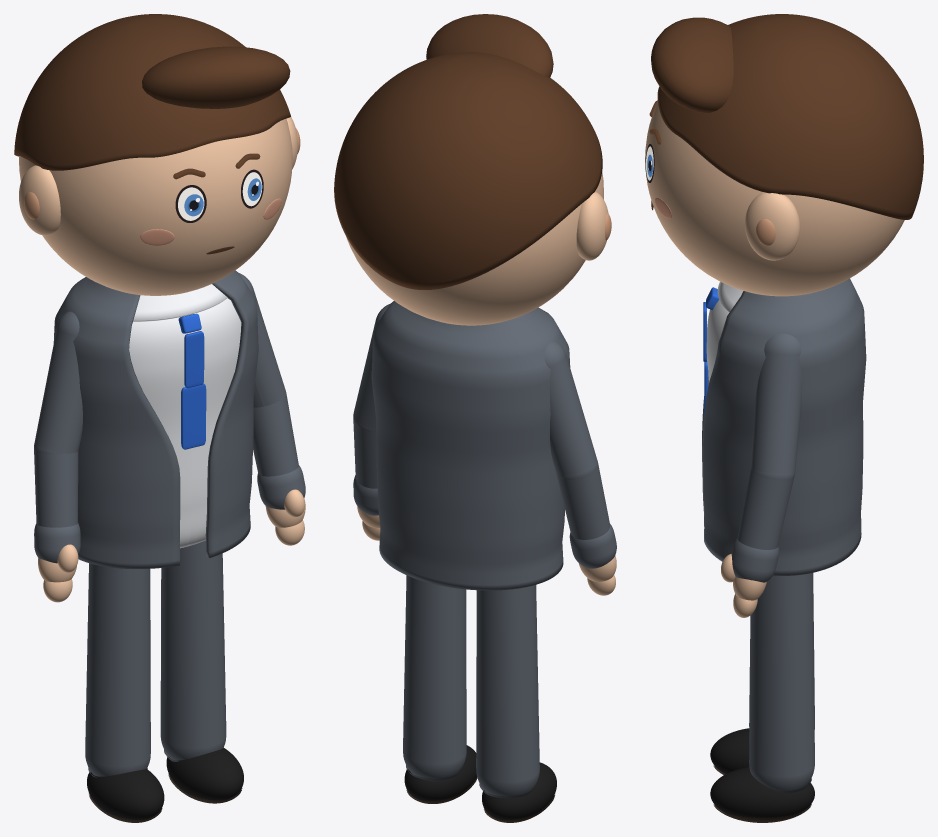
File: figurant_b.glb
3 renders of one model, left to right at view 1: azimuth 30°, elevation 25°; view 2: azimuth 150°, elevation 25°; view 3: azimuth 270°, elevation 25°, orthographic. The views are drawn at different scales.
Parts seen in each view (by area): view 1: figurant_b_jas, figurant_b_hoofd, figurant_b_haar, figurant_b_been_R, figurant_b_been_L, figurant_b_romp, figurant_b_haar_kuif, figurant_b_bovenarm_R, figurant_b_onderarm_R, figurant_b_schoen_R, figurant_b_schoen_L, figurant_b_onderarm_L (+8 smaller); view 2: figurant_b_jas, figurant_b_haar, figurant_b_been_R, figurant_b_been_L, figurant_b_hoofd, figurant_b_haar_kuif, figurant_b_bovenarm_R, figurant_b_onderarm_R, figurant_b_schoen_R, figurant_b_schoen_L, figurant_b_oor_R, figurant_b_onderarm_L (+3 smaller); view 3: figurant_b_haar, figurant_b_jas, figurant_b_hoofd, figurant_b_been_L, figurant_b_haar_kuif, figurant_b_bovenarm_L, figurant_b_schoen_L, figurant_b_onderarm_L, figurant_b_oor_L, figurant_b_manchet_L, figurant_b_schoen_R, figurant_b_romp (+1 smaller).
Part boxes in pixels (bbox=[...]): figurant_b_jas: bbox=[53, 270, 258, 568]; figurant_b_hoofd: bbox=[19, 118, 292, 295]; figurant_b_haar: bbox=[14, 14, 290, 170]; figurant_b_been_R: bbox=[85, 563, 150, 776]; figurant_b_been_L: bbox=[160, 540, 226, 760]; figurant_b_romp: bbox=[129, 298, 241, 548]; figurant_b_haar_kuif: bbox=[142, 46, 290, 108]; figurant_b_bovenarm_R: bbox=[34, 311, 82, 453]; figurant_b_onderarm_R: bbox=[34, 448, 78, 527]; figurant_b_schoen_R: bbox=[87, 769, 164, 820]; figurant_b_schoen_L: bbox=[166, 748, 243, 800]; figurant_b_onderarm_L: bbox=[253, 394, 298, 476]; figurant_b_jas: bbox=[371, 301, 570, 590]; figurant_b_haar: bbox=[334, 52, 602, 289]; figurant_b_been_R: bbox=[476, 585, 539, 796]; figurant_b_been_L: bbox=[403, 575, 466, 778]; figurant_b_hoofd: bbox=[346, 172, 603, 325]; figurant_b_haar_kuif: bbox=[426, 14, 553, 77]; figurant_b_bovenarm_R: bbox=[544, 341, 597, 478]; figurant_b_onderarm_R: bbox=[556, 464, 610, 539]; figurant_b_schoen_R: bbox=[482, 762, 556, 820]; figurant_b_schoen_L: bbox=[404, 745, 476, 801]; figurant_b_oor_R: bbox=[576, 191, 608, 260]; figurant_b_onderarm_L: bbox=[353, 416, 377, 488]; figurant_b_haar: bbox=[657, 14, 923, 219]; figurant_b_jas: bbox=[702, 278, 866, 575]; figurant_b_hoofd: bbox=[645, 102, 904, 296]; figurant_b_been_L: bbox=[749, 573, 814, 791]; figurant_b_haar_kuif: bbox=[651, 17, 733, 112]; figurant_b_bovenarm_L: bbox=[751, 333, 801, 480]; figurant_b_schoen_L: bbox=[710, 767, 814, 818]; figurant_b_onderarm_L: bbox=[737, 468, 793, 549]; figurant_b_oor_L: bbox=[745, 192, 799, 260]; figurant_b_manchet_L: bbox=[731, 538, 778, 582]; figurant_b_schoen_R: bbox=[710, 728, 749, 773]; figurant_b_romp: bbox=[706, 300, 729, 382].
Bounding box in the file's own units: 0.6749 × 1.84 × 0.5983.
